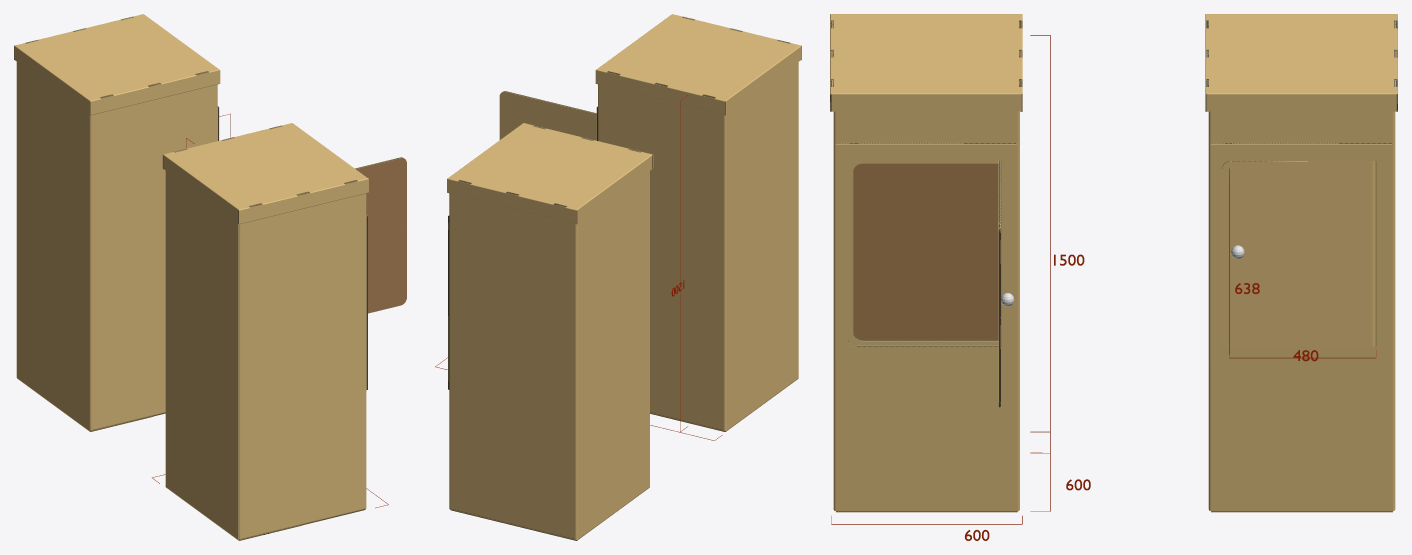
The model's file is donaciones.glb.
The picture shows the model from 3 angles, left to right: view 1: azimuth 30°, elevation 25°; view 2: azimuth 150°, elevation 25°; view 3: azimuth 270°, elevation 25°; orthographic projection. The views are drawn at different scales.
Parts seen in each view (by area): view 1: CAJA_DONACIONES---para_artios_ARD_D2-node, CAJA_DONACIONES---para_artios_ARD_D2-node.001, CAJA_DONACIONES---para_artios_ARD-node.002, CAJA_DONACIONES---para_artios_ARD-node.001, CAJA_DONACIONES---para_artios_ARD-node; view 2: CAJA_DONACIONES---para_artios_ARD_D2-node.001, CAJA_DONACIONES---para_artios_ARD_D2-node, CAJA_DONACIONES---para_artios_ARD-node.001, CAJA_DONACIONES---para_artios_ARD-node.002, CAJA_DONACIONES---para_artios_ARD-node; view 3: CAJA_DONACIONES---para_artios_ARD_D2-node, CAJA_DONACIONES---para_artios_ARD-node.003, CAJA_DONACIONES---para_artios_ARD_D2-node.001, CAJA_DONACIONES---para_artios_ARD-node.001, CAJA_DONACIONES---para_artios_ARD-node.002, CAJA_DONACIONES---para_artios_ARD-node.
Boxes of the visible parts, x1=… form: CAJA_DONACIONES---para_artios_ARD_D2-node: x1=165, y1=171, x2=366, y2=540; CAJA_DONACIONES---para_artios_ARD_D2-node.001: x1=16, y1=62, x2=217, y2=431; CAJA_DONACIONES---para_artios_ARD-node.002: x1=14, y1=14, x2=220, y2=115; CAJA_DONACIONES---para_artios_ARD-node.001: x1=162, y1=123, x2=368, y2=224; CAJA_DONACIONES---para_artios_ARD-node: x1=355, y1=157, x2=406, y2=390; CAJA_DONACIONES---para_artios_ARD_D2-node.001: x1=449, y1=171, x2=649, y2=540; CAJA_DONACIONES---para_artios_ARD_D2-node: x1=598, y1=62, x2=798, y2=431; CAJA_DONACIONES---para_artios_ARD-node.001: x1=595, y1=14, x2=801, y2=115; CAJA_DONACIONES---para_artios_ARD-node.002: x1=447, y1=123, x2=653, y2=224; CAJA_DONACIONES---para_artios_ARD-node: x1=499, y1=91, x2=597, y2=140; CAJA_DONACIONES---para_artios_ARD_D2-node: x1=833, y1=111, x2=1019, y2=512; CAJA_DONACIONES---para_artios_ARD-node.003: x1=1210, y1=143, x2=1391, y2=363; CAJA_DONACIONES---para_artios_ARD_D2-node.001: x1=1208, y1=111, x2=1395, y2=512; CAJA_DONACIONES---para_artios_ARD-node.001: x1=830, y1=14, x2=1022, y2=111; CAJA_DONACIONES---para_artios_ARD-node.002: x1=1205, y1=14, x2=1397, y2=111; CAJA_DONACIONES---para_artios_ARD-node: x1=835, y1=143, x2=1016, y2=407.
Size of the model in its own units: 1.11 by 1.51 by 1.85.
10 materials, 6 textured.
